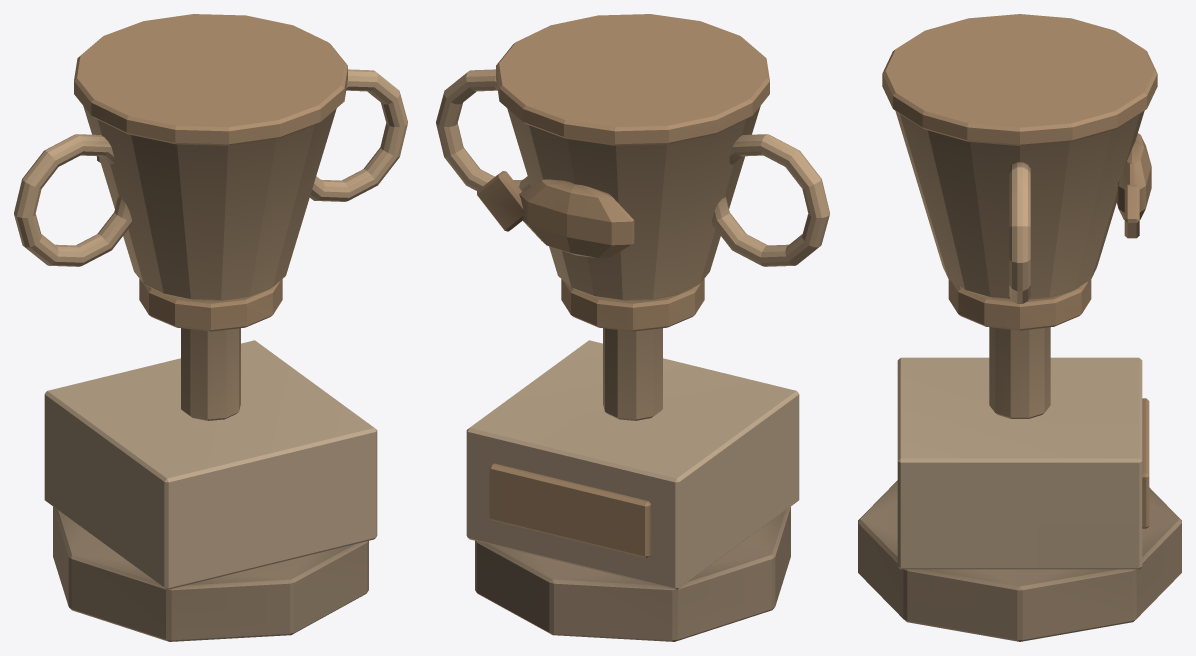
File: event_trophy_fish_bronze.glb
3 views of the same model, side by side, from view 1: azimuth 30°, elevation 25°; view 2: azimuth 150°, elevation 25°; view 3: azimuth 270°, elevation 25° (orthographic).
Bounding box in the file's own units: 0.441 × 0.545 × 0.3177.
